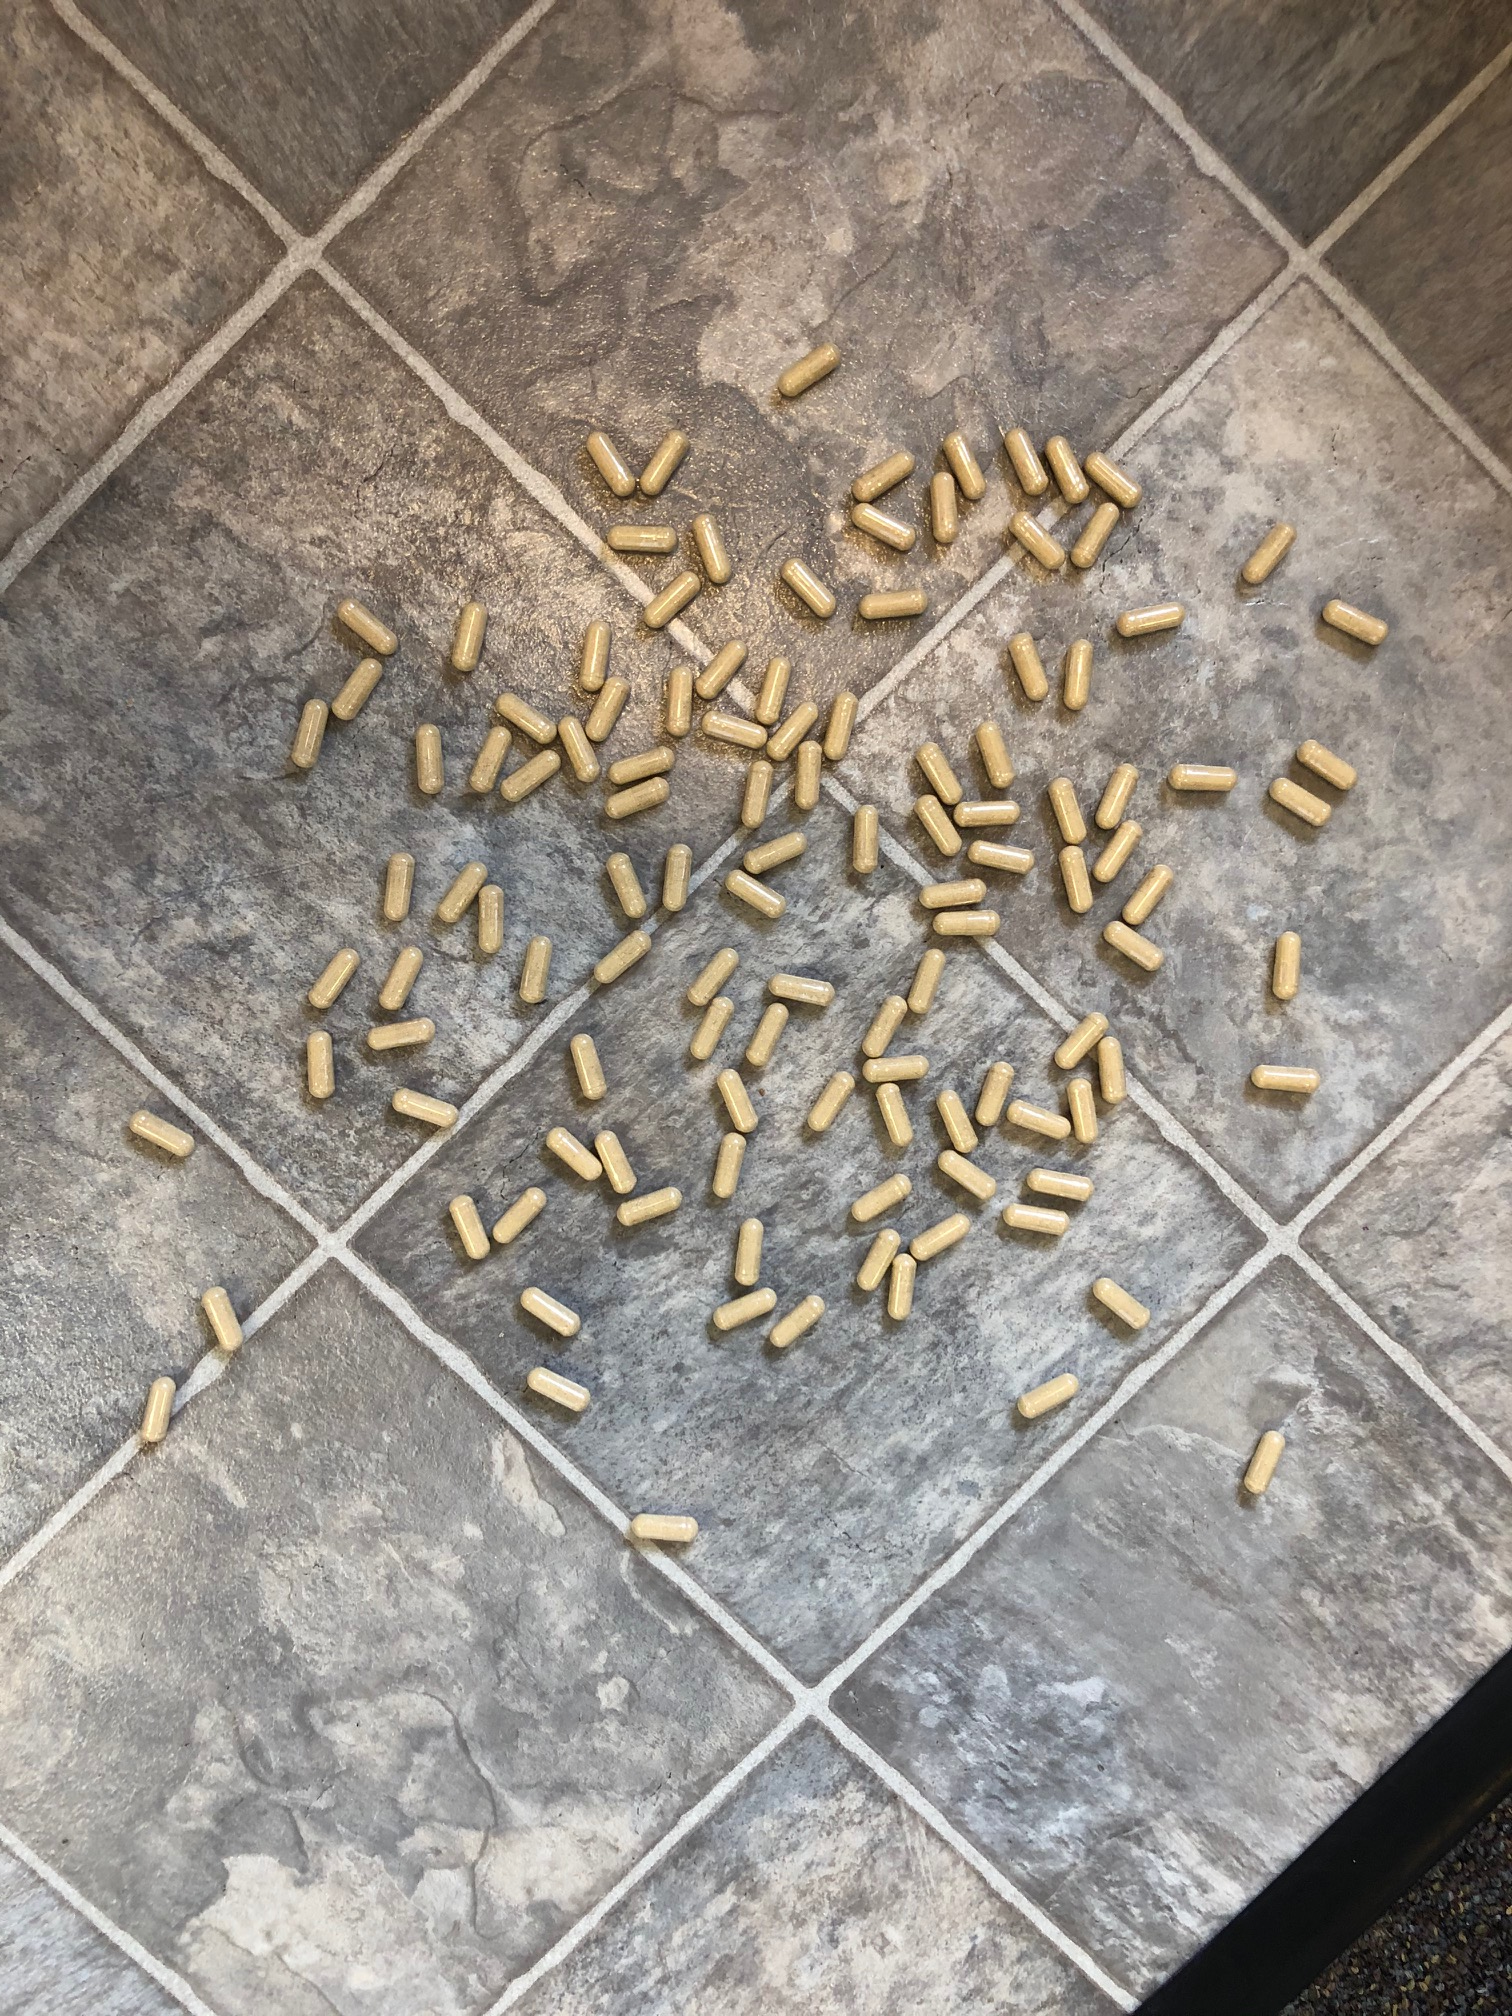capsule: (1291, 733, 1364, 794), (1004, 508, 1069, 575), (1237, 519, 1298, 589), (334, 595, 403, 656), (1264, 775, 1336, 832), (778, 556, 839, 622), (580, 429, 637, 498), (635, 429, 692, 498), (1082, 448, 1145, 510), (638, 568, 702, 630), (777, 338, 842, 398), (589, 929, 654, 989), (1051, 1010, 1112, 1075), (850, 444, 916, 503), (1120, 862, 1178, 929), (1066, 498, 1121, 568), (681, 994, 735, 1065), (800, 1068, 859, 1133), (1101, 918, 1167, 975), (434, 859, 491, 925), (492, 689, 561, 744), (307, 945, 362, 1013), (1086, 1275, 1155, 1330), (1317, 597, 1391, 648), (940, 427, 989, 503), (1086, 818, 1144, 883), (1012, 1368, 1085, 1419), (910, 792, 966, 859), (518, 1284, 584, 1340), (372, 945, 426, 1013), (845, 1168, 913, 1222), (200, 1283, 249, 1357), (1001, 1094, 1075, 1143), (847, 500, 916, 552), (719, 865, 789, 918), (712, 1065, 764, 1135), (1040, 433, 1091, 505), (1113, 597, 1190, 644), (125, 1110, 197, 1160), (492, 1184, 550, 1248), (540, 1125, 604, 1183), (497, 749, 562, 805), (905, 1210, 974, 1262), (615, 1183, 685, 1233), (524, 1364, 596, 1413), (689, 510, 735, 586), (858, 994, 910, 1060), (872, 1079, 920, 1152), (913, 738, 964, 806), (329, 659, 384, 721), (764, 698, 820, 760), (1001, 427, 1050, 497), (600, 849, 650, 919), (1005, 629, 1051, 703), (554, 713, 600, 787), (854, 1222, 902, 1294), (932, 1084, 980, 1156), (1239, 1429, 1290, 1495), (1094, 760, 1140, 833), (446, 1192, 492, 1265), (712, 1283, 777, 1333), (935, 1148, 1001, 1198), (565, 1030, 608, 1106), (767, 1294, 826, 1349), (696, 638, 750, 698), (740, 825, 808, 873), (591, 1129, 638, 1197), (286, 697, 330, 770), (970, 1057, 1015, 1130), (469, 725, 515, 795), (700, 706, 770, 752), (607, 740, 677, 786), (972, 718, 1016, 789), (391, 1084, 462, 1129), (685, 945, 739, 1003), (588, 675, 634, 741), (1047, 773, 1090, 844), (602, 775, 670, 819), (820, 689, 861, 762), (904, 948, 947, 1018), (1021, 1164, 1099, 1202), (756, 652, 796, 727), (1056, 843, 1096, 918), (1001, 1198, 1075, 1238), (708, 1133, 751, 1202), (577, 617, 615, 694), (516, 932, 554, 1008), (762, 968, 839, 1006), (1267, 929, 1307, 1002), (380, 849, 419, 922), (361, 1018, 440, 1054), (746, 1000, 789, 1067), (659, 840, 697, 914), (735, 759, 775, 830), (661, 664, 699, 737), (473, 883, 511, 956), (913, 873, 989, 910), (451, 602, 491, 671), (1059, 640, 1096, 714), (411, 722, 449, 794), (137, 1375, 176, 1443), (885, 1249, 921, 1322), (1094, 1033, 1129, 1110), (627, 1510, 702, 1545), (1248, 1064, 1326, 1097), (1066, 1076, 1101, 1149), (302, 1029, 337, 1100), (929, 470, 962, 544), (1166, 760, 1240, 794), (929, 908, 1004, 941), (856, 587, 929, 621), (966, 840, 1037, 873), (950, 797, 1024, 829), (734, 1214, 766, 1287), (850, 802, 881, 873), (607, 522, 680, 552), (794, 740, 824, 813), (862, 1054, 935, 1084)
